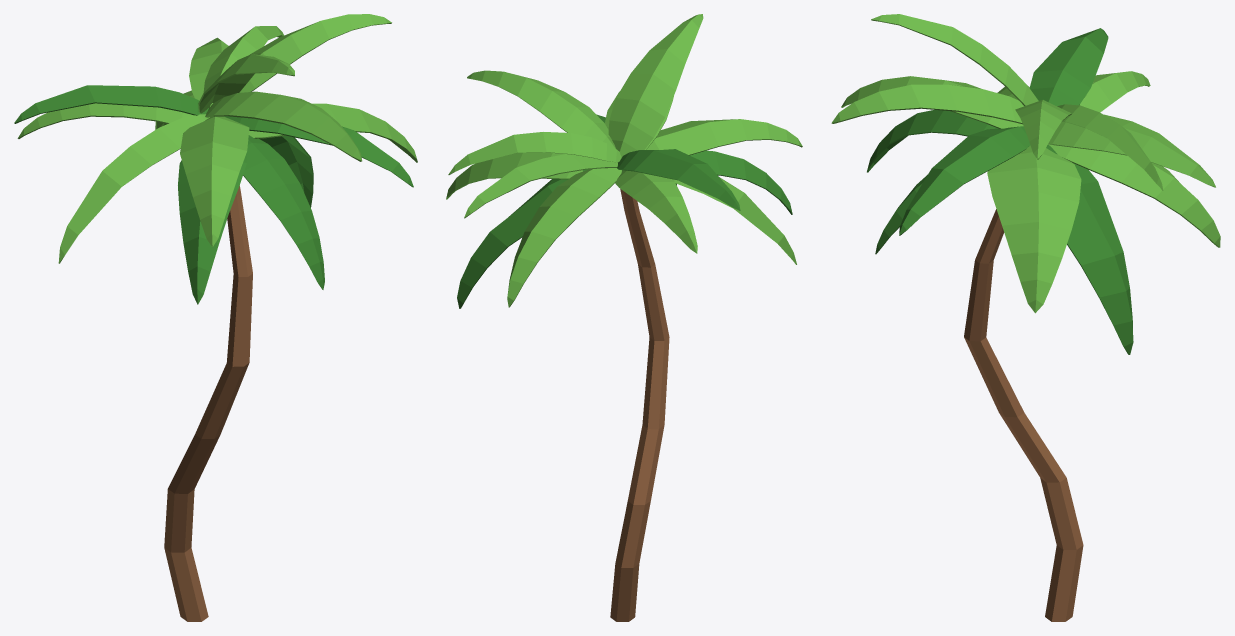
Rendered from nature-palmtree-1.glb.
The picture shows the model from 3 angles, left to right: view 1: azimuth 30°, elevation 25°; view 2: azimuth 150°, elevation 25°; view 3: azimuth 270°, elevation 25°; orthographic projection. The views are drawn at different scales.
Parts seen in each view (by area): view 1: PalmTree_1; view 2: PalmTree_1; view 3: PalmTree_1.
Part boxes in pixels (x1=…): PalmTree_1: x1=14, y1=14, x2=417, y2=621; PalmTree_1: x1=446, y1=14, x2=802, y2=621; PalmTree_1: x1=831, y1=14, x2=1220, y2=621.
Bounding box in the file's own units: 288 × 447 × 261.
